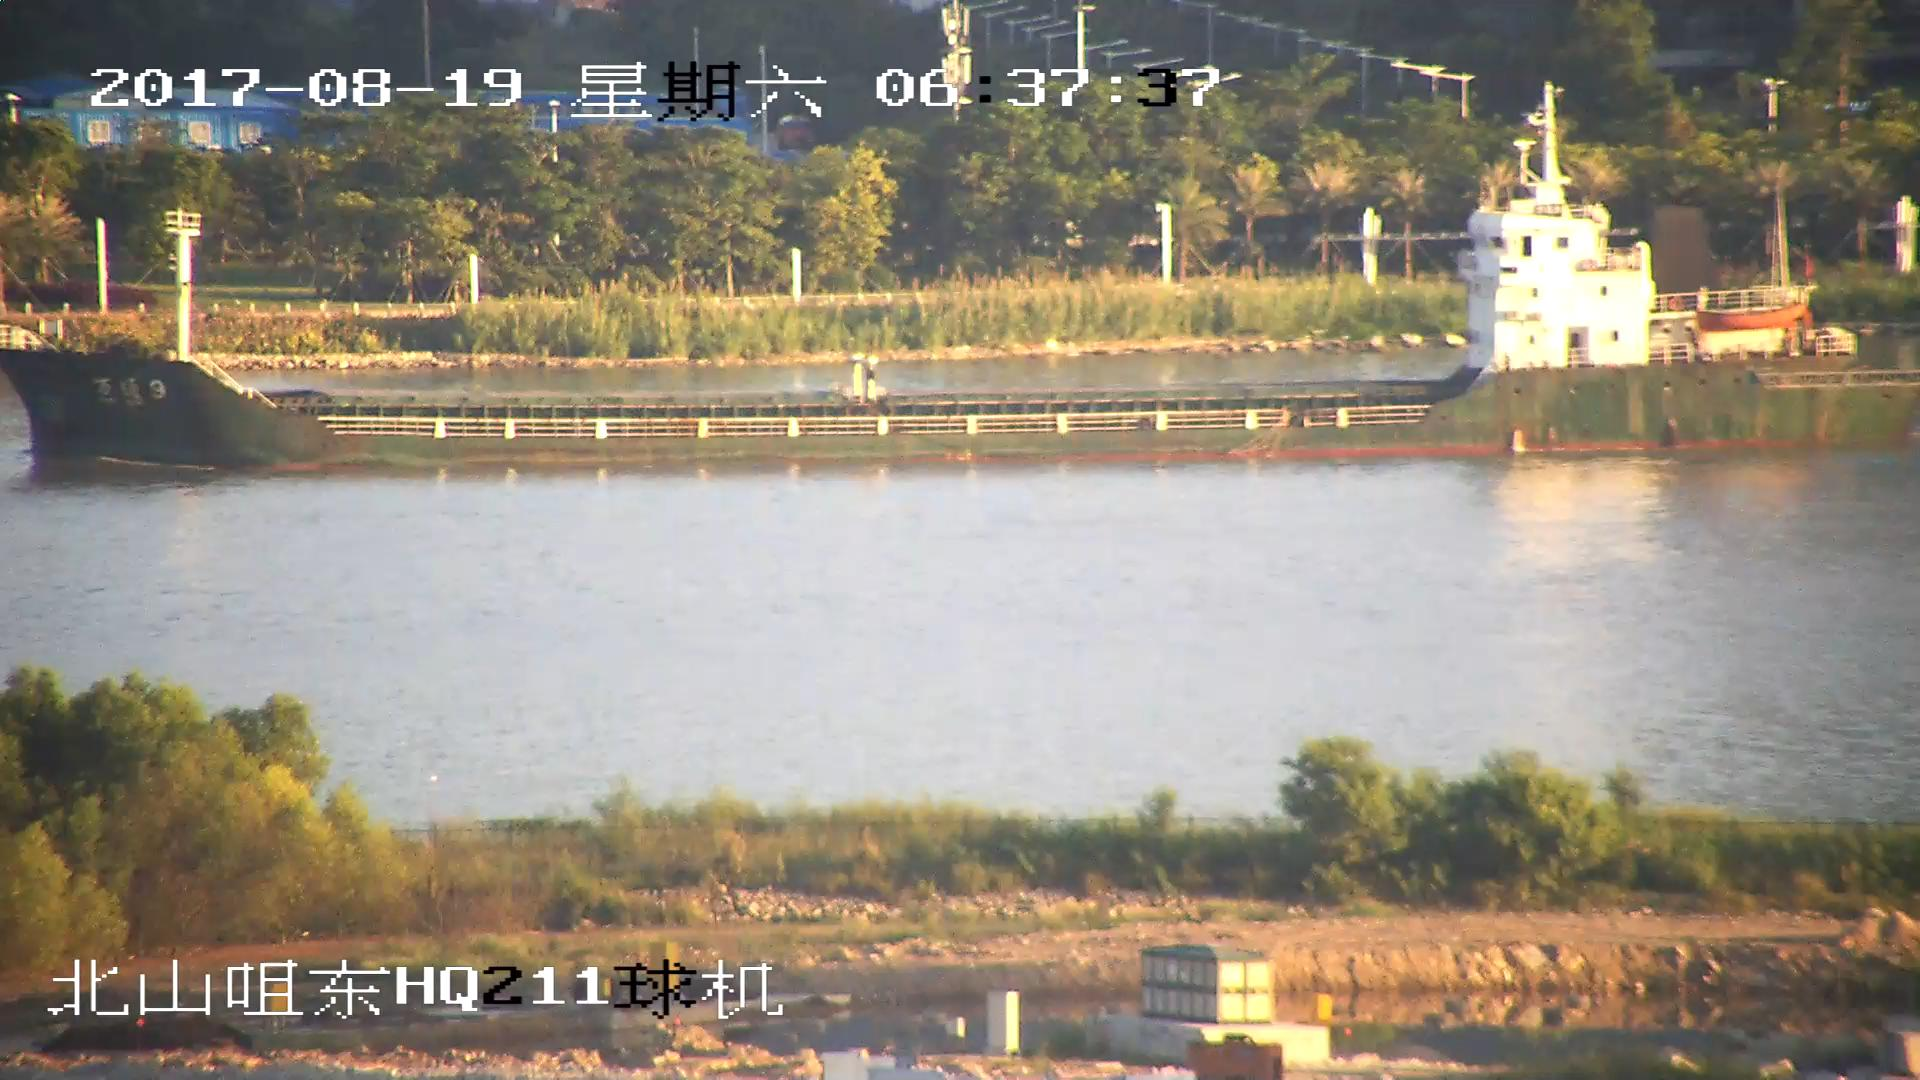general cargo ship: (1, 133, 1920, 465)
